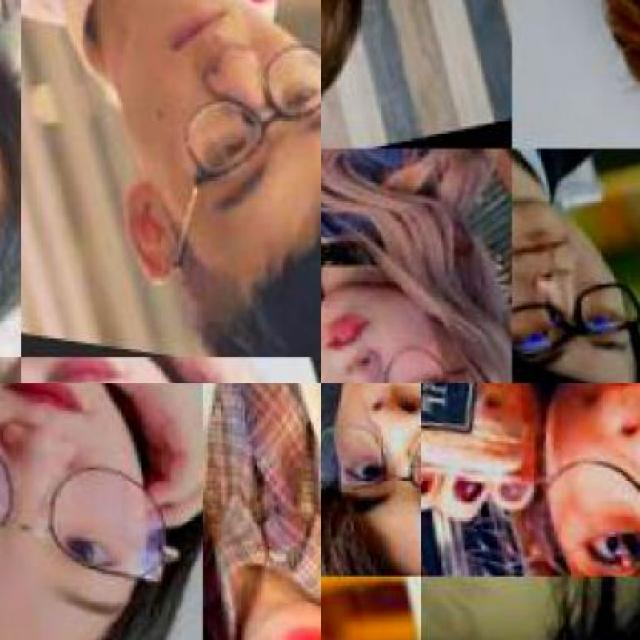glasses: (118, 42, 323, 274), (0, 450, 177, 596), (523, 459, 640, 580), (514, 264, 638, 374), (320, 429, 417, 513), (320, 336, 492, 382)
